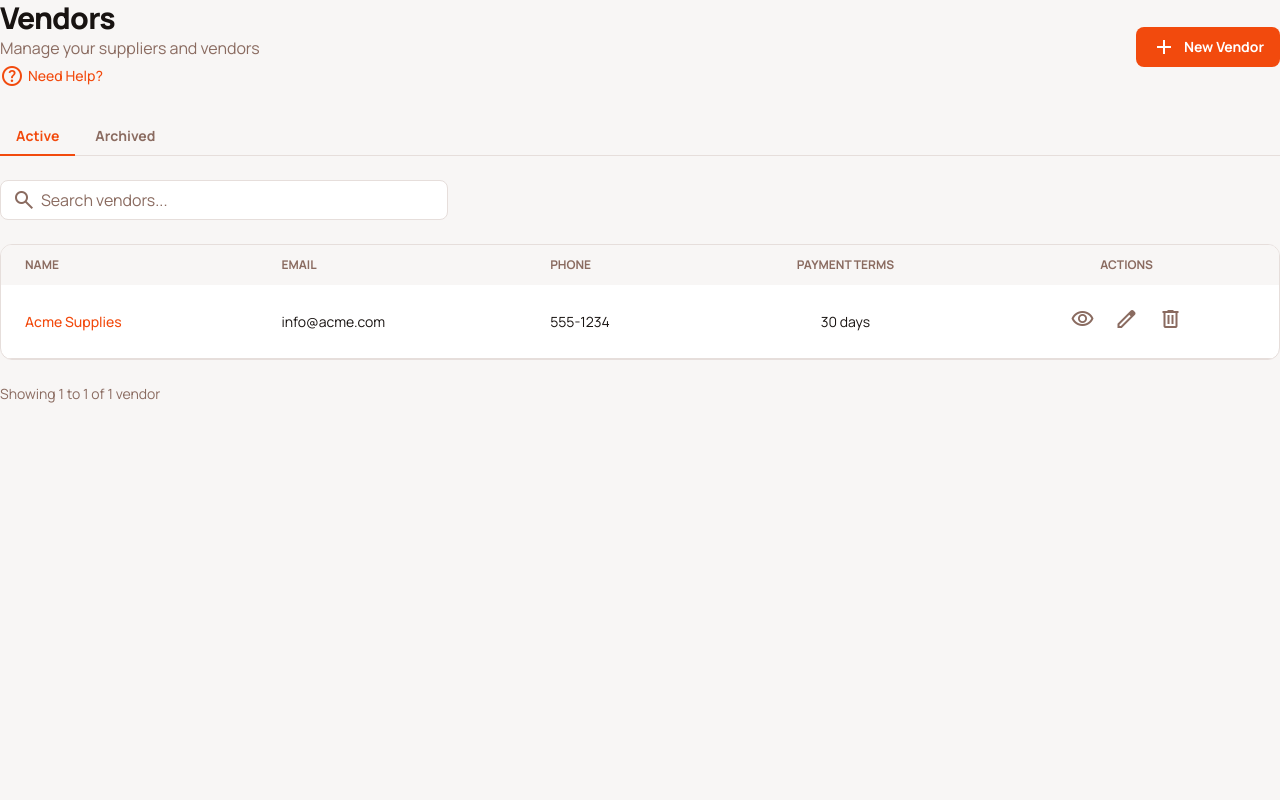
Test case: VendorListPage › delete functionality › displays warning message in delete modal
Click the button with test id "vendor-delete-vendor-warn": (1171, 322) [1153,301,1189,342]
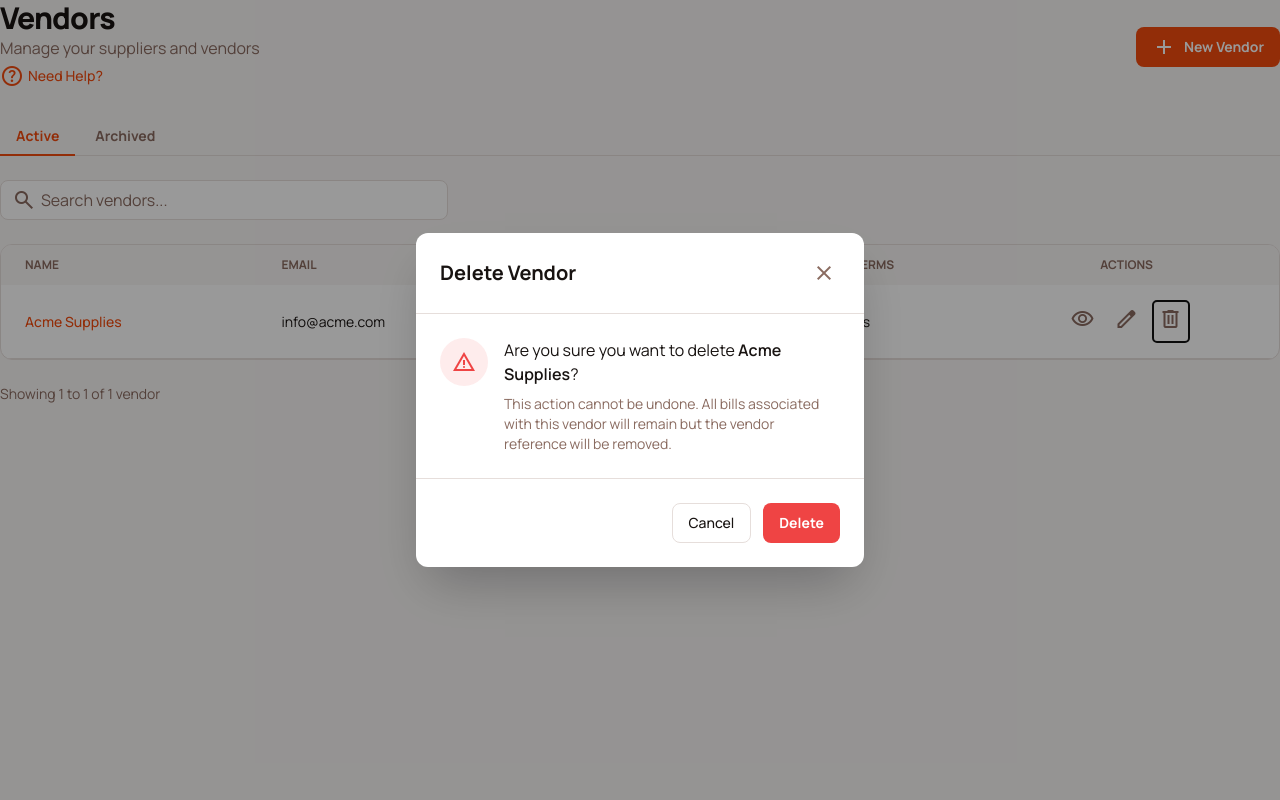
Now the text "This action cannot be undone" is shown, box [504,394,819,453]
